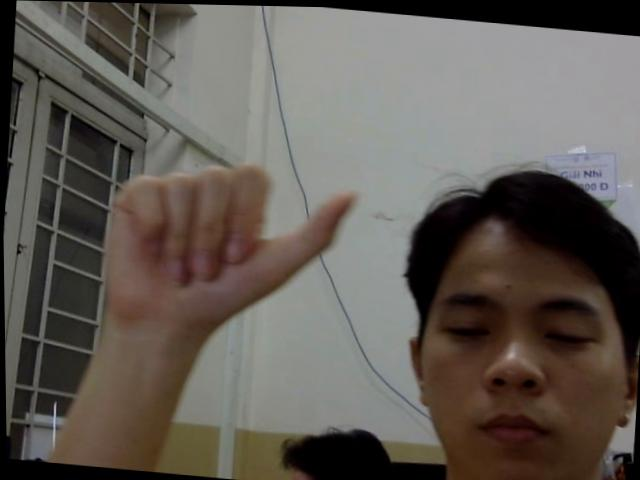A: (88, 147, 363, 338)
